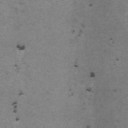oxide scale of temperature system: (70, 64, 96, 96), (11, 90, 24, 122), (71, 22, 85, 37), (16, 44, 26, 51), (108, 36, 115, 44), (88, 2, 94, 8), (112, 88, 118, 93), (86, 125, 92, 128), (14, 64, 18, 68), (116, 58, 119, 62)
